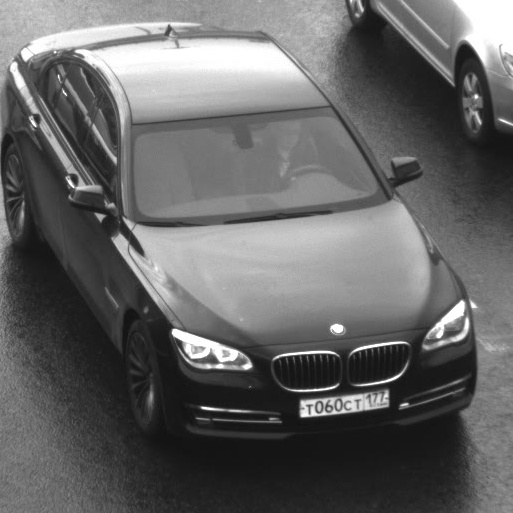plate: (288, 376, 401, 425)
